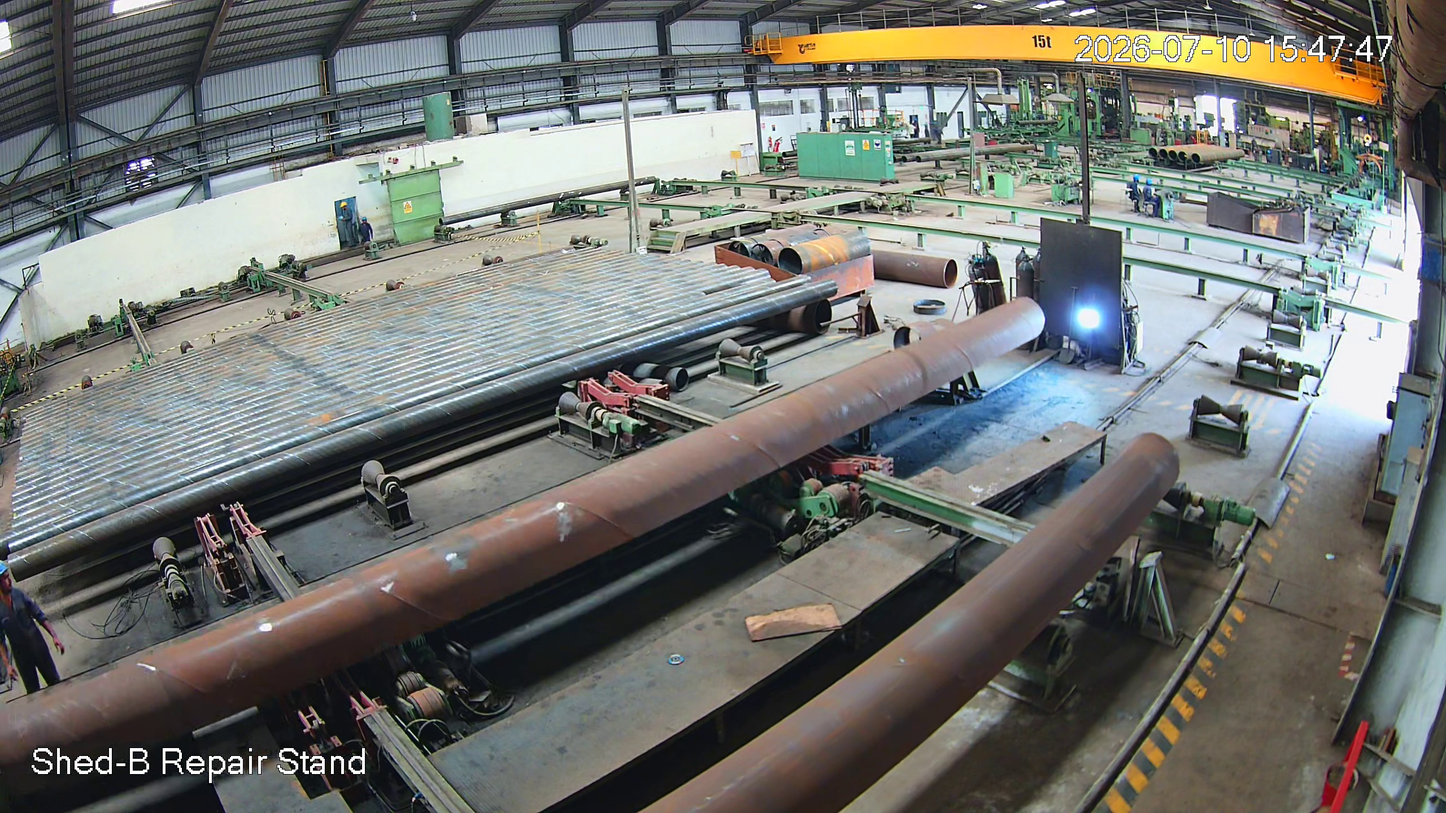Helmet: (0, 549, 23, 601)
Person: (0, 561, 38, 728)
